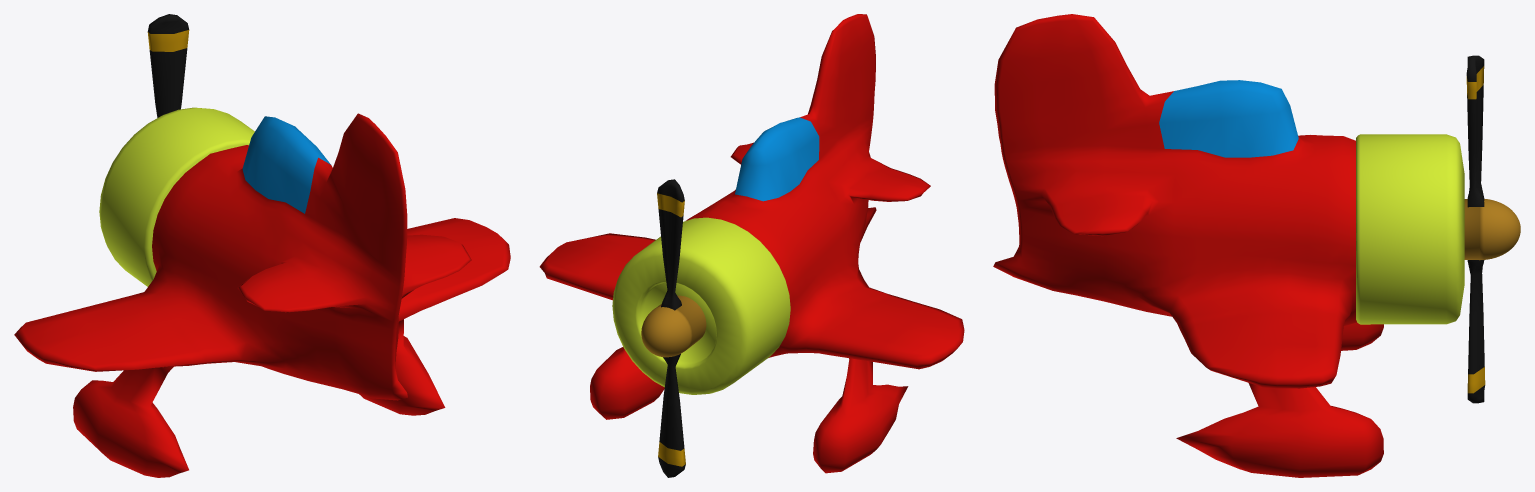
Rendered from plane1testexport2.fbx.
The picture shows the model from 3 angles, left to right: view 1: azimuth 30°, elevation 25°; view 2: azimuth 150°, elevation 25°; view 3: azimuth 270°, elevation 25°; orthographic projection. The views are drawn at different scales.
Parts seen in each view (by area): view 1: fuselage, cowel, prop; view 2: fuselage, cowel, prop, prop_shield; view 3: fuselage, cowel, prop, prop_shield.
Part boxes in pixels (bbox=[...]): fuselage: bbox=[14, 113, 510, 477]; cowel: bbox=[99, 107, 254, 286]; prop: bbox=[147, 14, 189, 117]; fuselage: bbox=[539, 14, 964, 473]; cowel: bbox=[612, 217, 790, 394]; prop: bbox=[657, 179, 685, 477]; prop_shield: bbox=[641, 295, 706, 357]; fuselage: bbox=[993, 14, 1383, 477]; cowel: bbox=[1356, 134, 1464, 324]; prop: bbox=[1466, 55, 1485, 403]; prop_shield: bbox=[1464, 199, 1520, 260].
Bounding box in the file's own units: 631 × 499 × 608.
